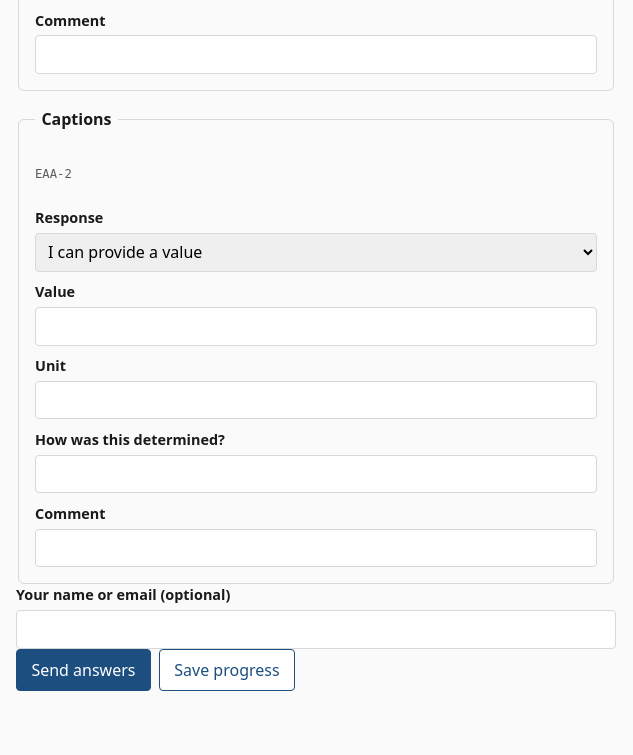
ContributorPortalPage › surfaces an incomplete-submission error from the server
(page scrolled)
Click the button "Send answers" at (83, 670), box [16, 649, 151, 691]
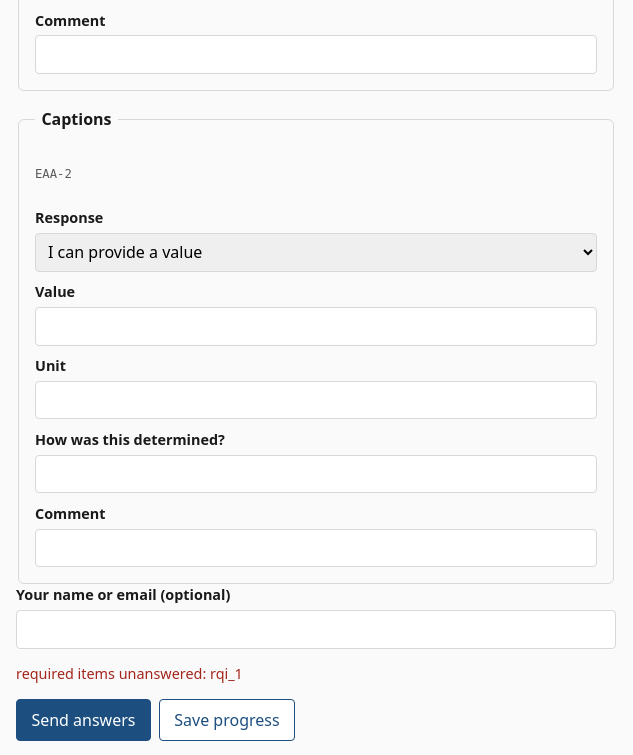
expect the text "required items unanswered: rqi_1" is shown: met, box [16, 664, 243, 683]
